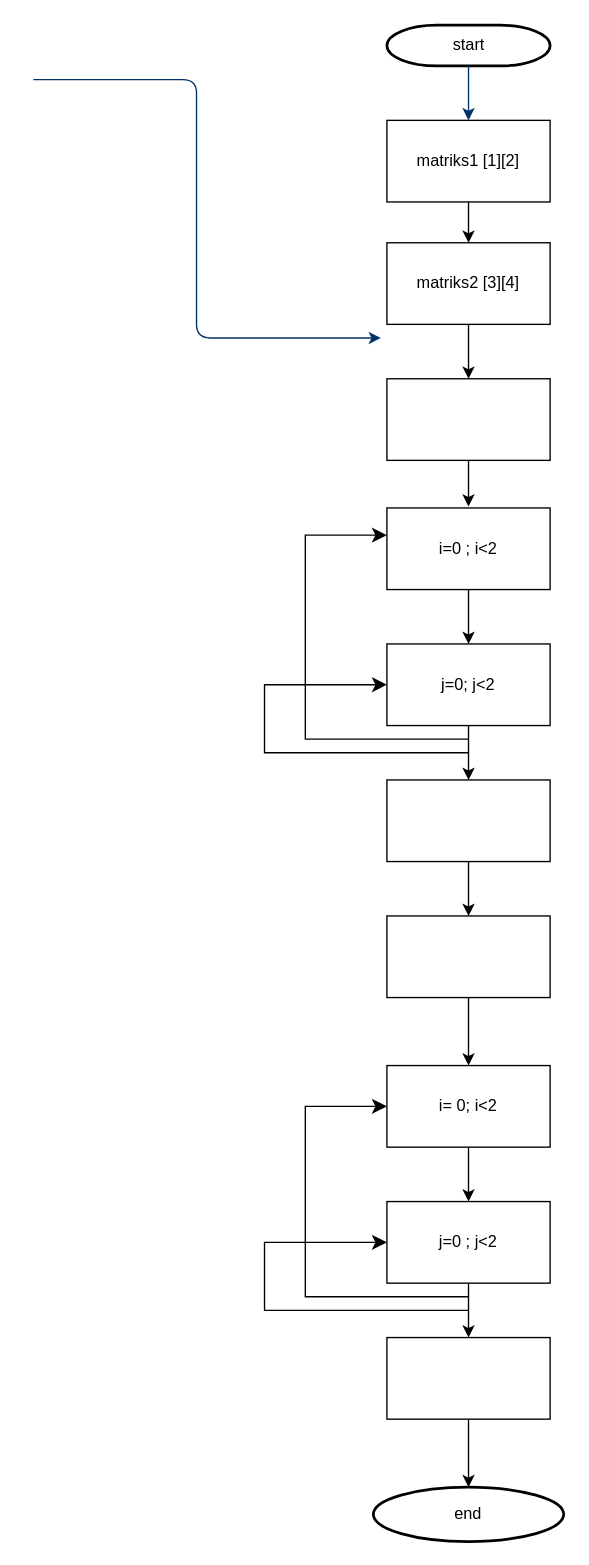
The diagram is 589 pixels wide and 1565 high, and some of its shapes have lost their labels. Each missing label, with the box of its shape:
print "Matriks Hasil': (386, 915, 550, 998)
print resultMatriks [i][j]: (386, 1336, 550, 1419)
resultMatriks = matriks1 [i][j] + matriks2 [i][j]: (386, 779, 550, 862)
resultMatriks = new int[2][2];: (386, 377, 550, 460)
